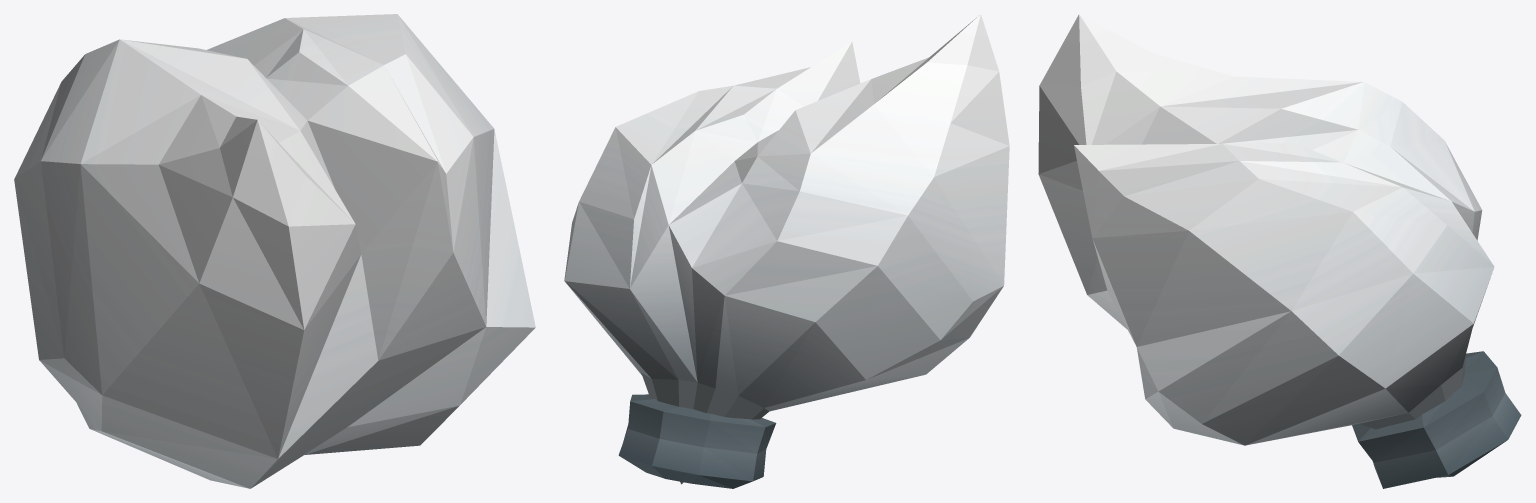
The model's file is CharSkyNPC_Hair_FatLaborBun.glb.
3 views of the same model, side by side, from view 1: azimuth 30°, elevation 25°; view 2: azimuth 150°, elevation 25°; view 3: azimuth 270°, elevation 25° (orthographic). The views are drawn at different scales.
Parts seen in each view (by area): view 1: CharSkyNPC_Hair_FatLaborBun; view 2: CharSkyNPC_Hair_FatLaborBun; view 3: CharSkyNPC_Hair_FatLaborBun.
Part boxes in pixels (x1,y1,x2,y2): CharSkyNPC_Hair_FatLaborBun: (14,14,535,488); CharSkyNPC_Hair_FatLaborBun: (564,14,1009,488); CharSkyNPC_Hair_FatLaborBun: (1038,14,1521,488).
Size of the model in its own units: 1.68 by 1.71 by 1.89.
1 material, 1 textured.
